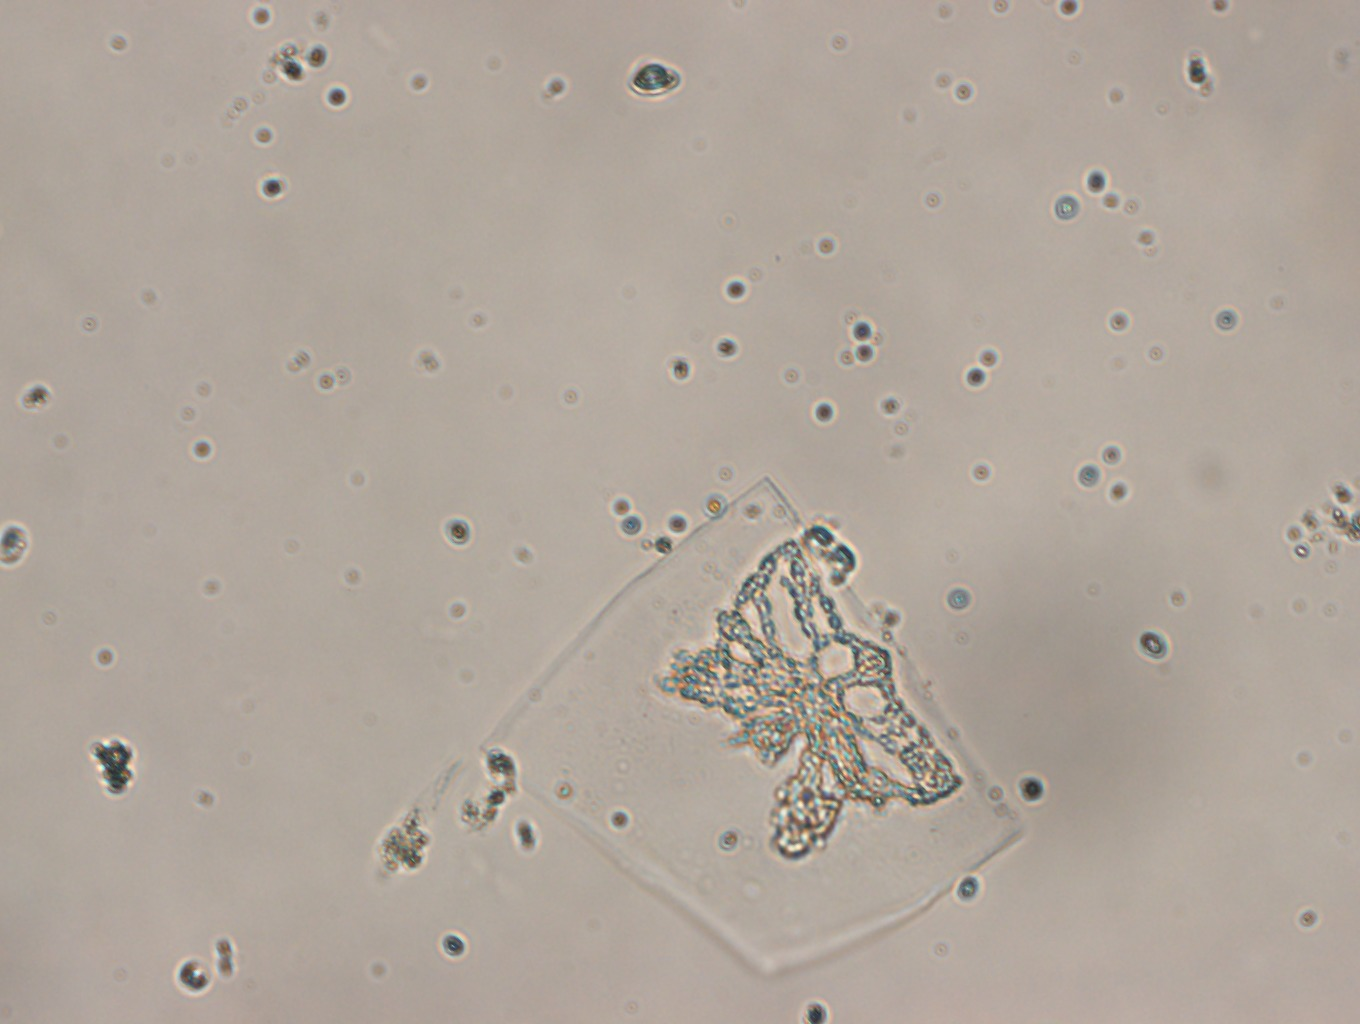helicotheca: (479, 478, 1027, 973)
